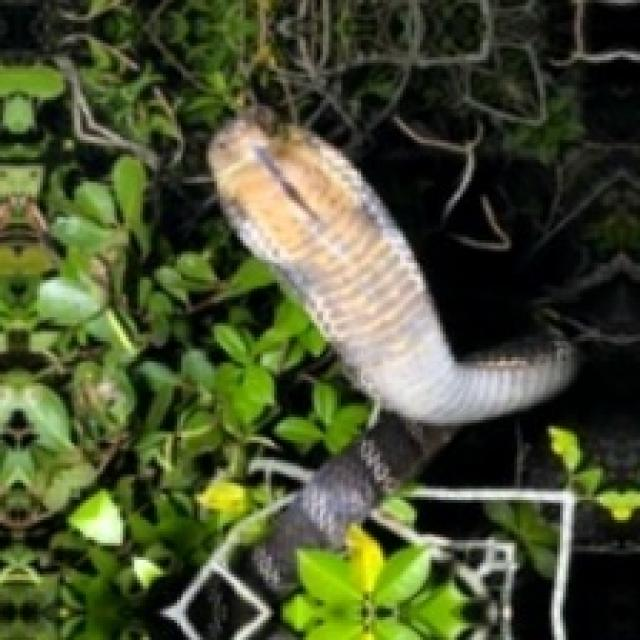king cobra: (209, 111, 574, 591)
